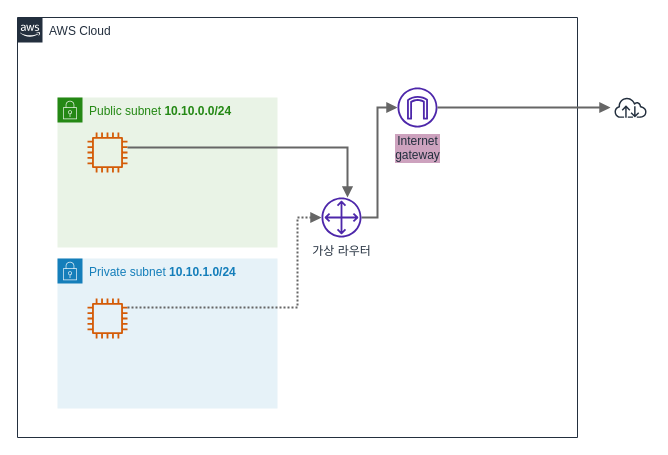
This 668x455 diagram has some shape labels left out. The shapes that lost their labels are listed below. From the top down, each one's centre as x and y in pixels, then its label:
At pixel 630 107: "Internet".
At pixel 107 152: "Public EC2 Instance".
At pixel 107 318: "Private EC2 Instance".
